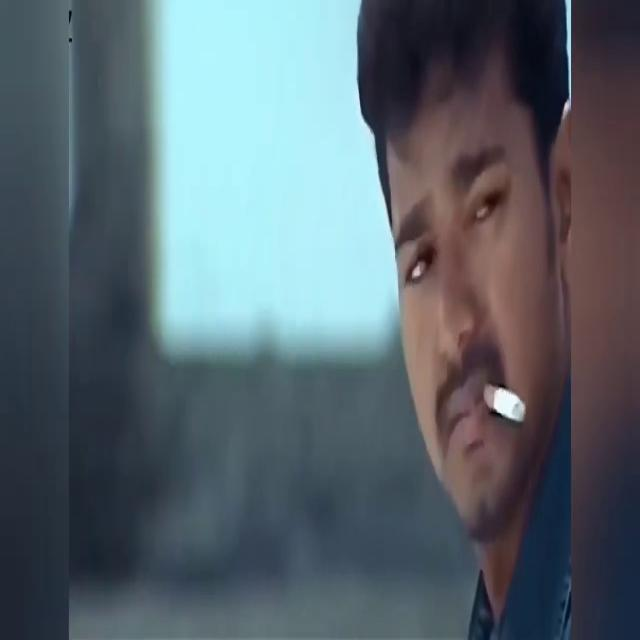smoking: (490, 387, 496, 444)
